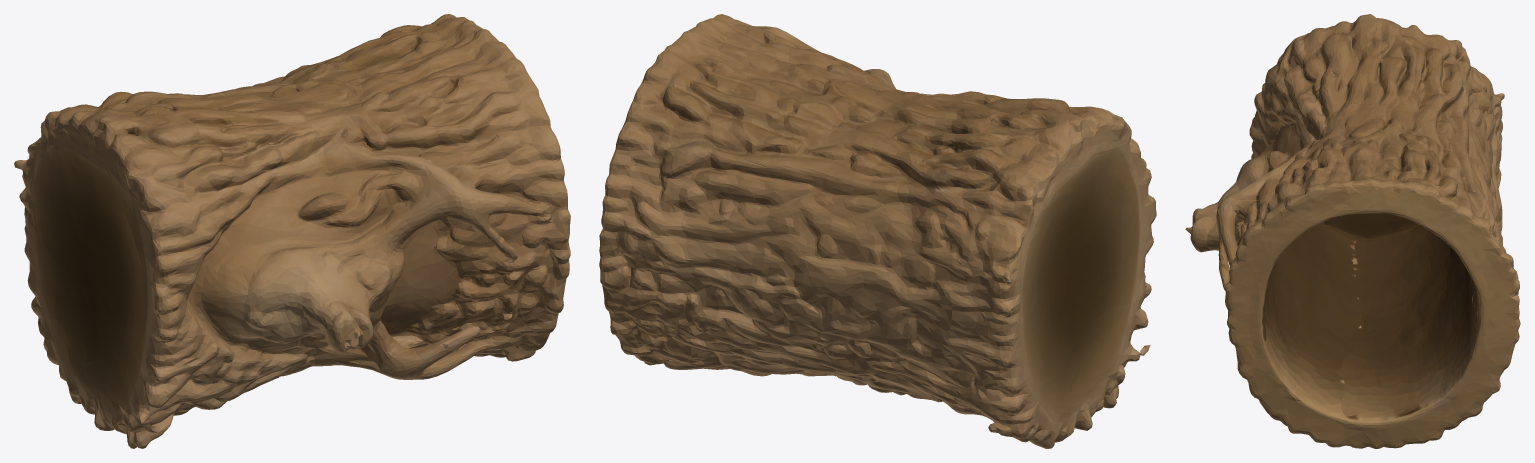
The model's file is stag-cup.glb.
The picture shows the model from 3 angles, left to right: view 1: azimuth 30°, elevation 25°; view 2: azimuth 150°, elevation 25°; view 3: azimuth 270°, elevation 25°; orthographic projection. The views are drawn at different scales.
Parts seen in each view (by area): view 1: stag cup_textured.obj; view 2: stag cup_textured.obj; view 3: stag cup_textured.obj.
Boxes of the visible parts, x1,y1,x2,y2 form: stag cup_textured.obj: (14,14,570,448); stag cup_textured.obj: (599,14,1156,448); stag cup_textured.obj: (1185,14,1520,448).
Size of the model in its own units: 1.98 by 1.48 by 1.64.
1 material, 1 textured.
